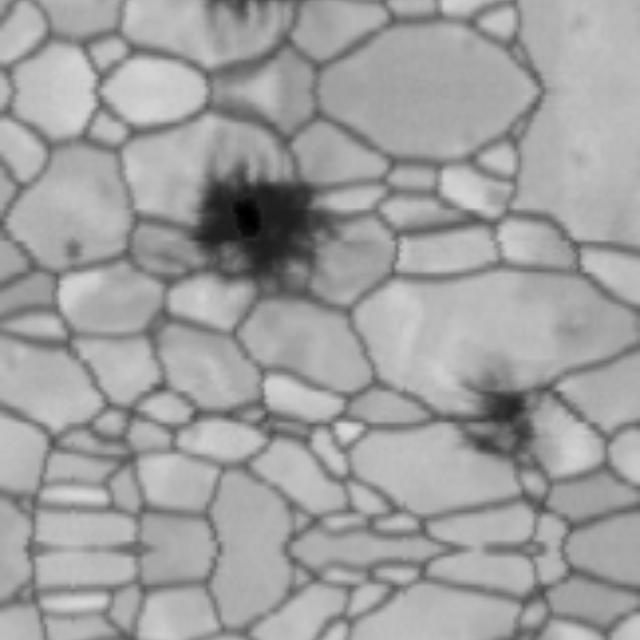good_void: (186, 158, 350, 315), (448, 357, 549, 468), (54, 239, 91, 262)
